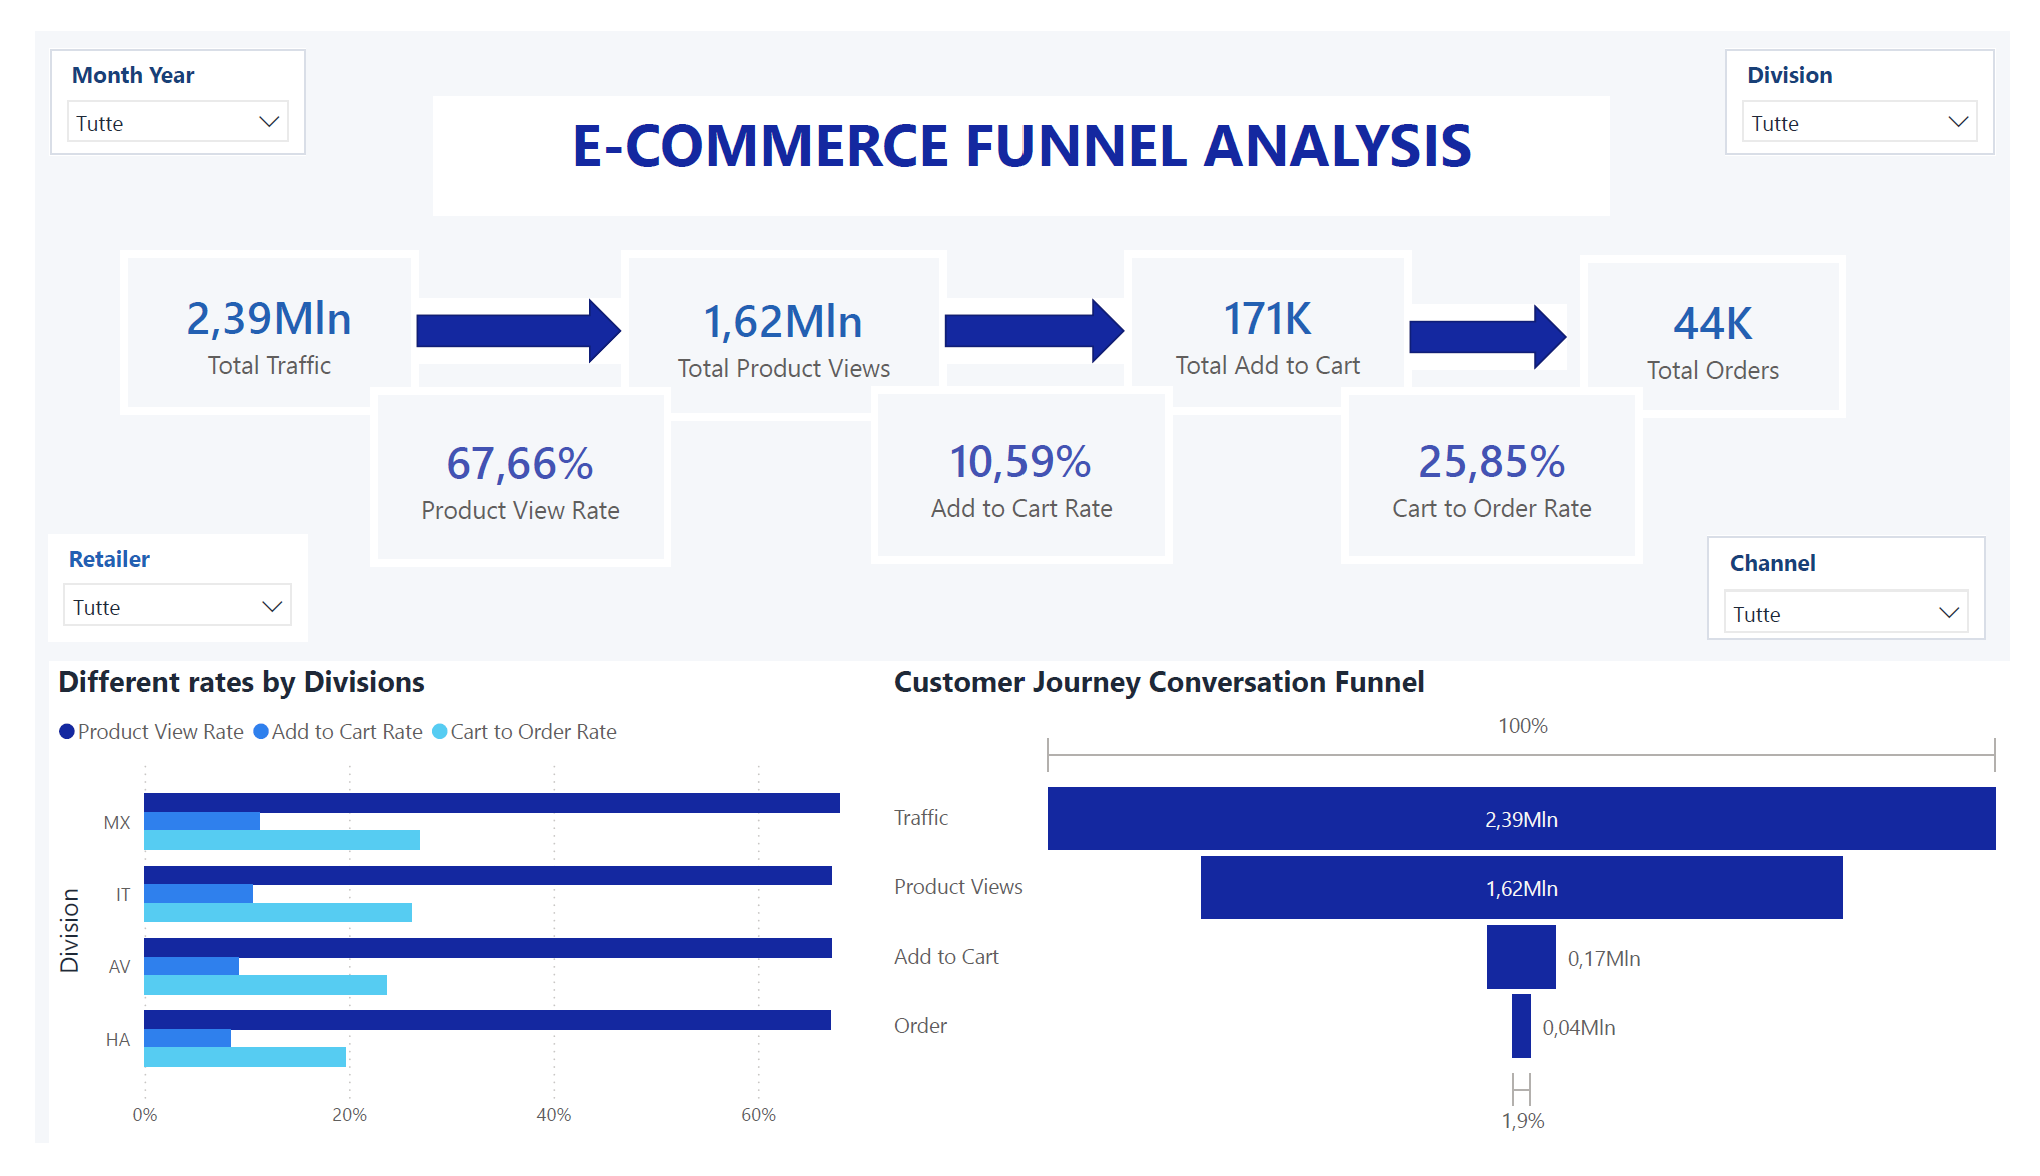

This screenshot's page, from the dashboard's own definition file:
{"tool":"powerbi","page":{"name":"Funnel Analysis","canvas":[1280,720],"ordinal":1},"visuals":[{"type":"cardVisual","fields":{"Data":["SalesDataTable.Total Add to Cart"]},"box":[706.2,141.7,185.5,106],"z":0},{"type":"cardVisual","fields":{"Data":["SalesDataTable.Total Orders"]},"box":[1002.2,145.2,171.6,104.8],"z":1000},{"type":"cardVisual","fields":{"Data":["SalesDataTable.Total Traffic"]},"box":[55.3,141.7,192.4,106],"z":2000},{"type":"cardVisual","fields":{"Data":["SalesDataTable.Total Product Views"]},"box":[380.2,141.7,210.8,110.6],"z":3000},{"type":"cardVisual","fields":{"Data":["SalesDataTable.Add to Cart Rate"]},"box":[542.5,230.1,194.5,115.1],"z":4000},{"type":"cardVisual","fields":{"Data":["SalesDataTable.Cart to Order Rate"]},"box":[846.5,230.8,195.1,114.7],"z":5000},{"type":"clusteredBarChart","title":"Different rates by Divisions","fields":{"Category":["SalesDataTable.Division"],"Y":["SalesDataTable.Product View Rate","SalesDataTable.Add to Cart Rate","SalesDataTable.Cart to Order Rate"]},"box":[9.2,408.2,542.9,311.7],"z":6000},{"type":"funnel","title":"Customer Journey Conversation Funnel","fields":{"Category":["FunnelStages.Stage"],"Y":["Calendar.Funnel Value"]},"box":[552.2,408.2,729.2,313.1],"z":7000},{"type":"shape","box":[247.3,173.4,132.6,42.1],"z":8000},{"type":"shape","box":[590.3,173.4,116,42.1],"z":9000},{"type":"shape","box":[891.2,177.2,102,42.1],"z":10000},{"type":"textbox","box":[257.5,42.5,763,76.7],"z":11000},{"type":"slicer","fields":{"Values":["SalesDataTable.Division"]},"box":[1096.4,11.5,174.7,68.8],"z":12000},{"type":"slicer","fields":{"Values":["Calendar.Month Year"]},"box":[8.9,11.5,165.7,68.8],"z":13000},{"type":"slicer","fields":{"Values":["SalesDataTable.Channel"]},"box":[1083.7,326.8,181.3,67.5],"z":14000},{"type":"slicer","fields":{"Values":["SalesDataTable.Retailer"]},"box":[7.6,326.4,168.3,68.8],"z":15000},{"type":"cardVisual","fields":{"Data":["SalesDataTable.Product View Rate"]},"box":[216.7,230.8,195.1,116],"z":16000}]}

Visuals, with their boxes in screenshot pixels (x1, y1, x2, y2), scaled from the page's 1280x720 canvas onto the 2040x1176 screenshot:
cardVisual - SalesDataTable.Total Add to Cart: <region>1126, 231, 1421, 405</region>
cardVisual - SalesDataTable.Total Orders: <region>1597, 237, 1871, 408</region>
cardVisual - SalesDataTable.Total Traffic: <region>88, 231, 395, 405</region>
cardVisual - SalesDataTable.Total Product Views: <region>606, 231, 942, 412</region>
cardVisual - SalesDataTable.Add to Cart Rate: <region>865, 376, 1175, 564</region>
cardVisual - SalesDataTable.Cart to Order Rate: <region>1349, 377, 1660, 564</region>
"Different rates by Divisions" clusteredBarChart: <region>15, 667, 880, 1175</region>
"Customer Journey Conversation Funnel" funnel: <region>880, 667, 2039, 1175</region>
shape: <region>394, 283, 605, 352</region>
shape: <region>941, 283, 1126, 352</region>
shape: <region>1420, 289, 1583, 358</region>
textbox: <region>410, 69, 1626, 195</region>
slicer - SalesDataTable.Division: <region>1747, 19, 2026, 131</region>
slicer - Calendar.Month Year: <region>14, 19, 278, 131</region>
slicer - SalesDataTable.Channel: <region>1727, 534, 2016, 644</region>
slicer - SalesDataTable.Retailer: <region>12, 533, 280, 645</region>
cardVisual - SalesDataTable.Product View Rate: <region>345, 377, 656, 566</region>
